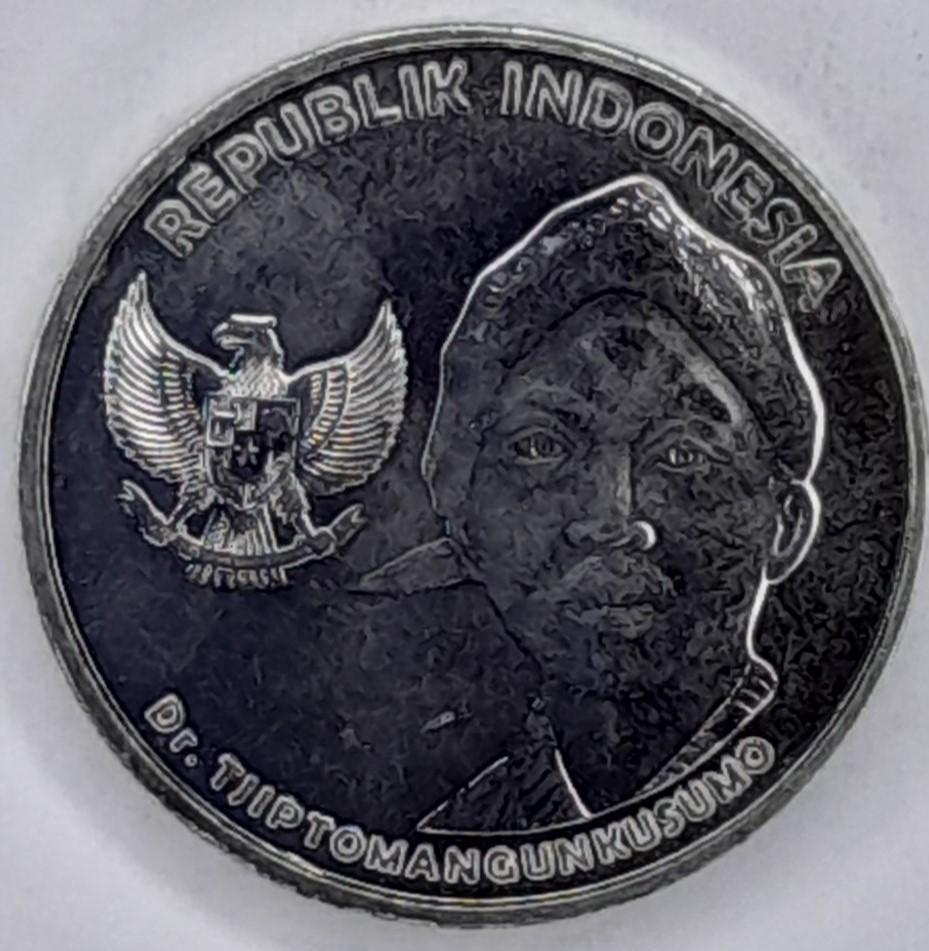coin_200_e2016: (0, 17, 929, 951)
